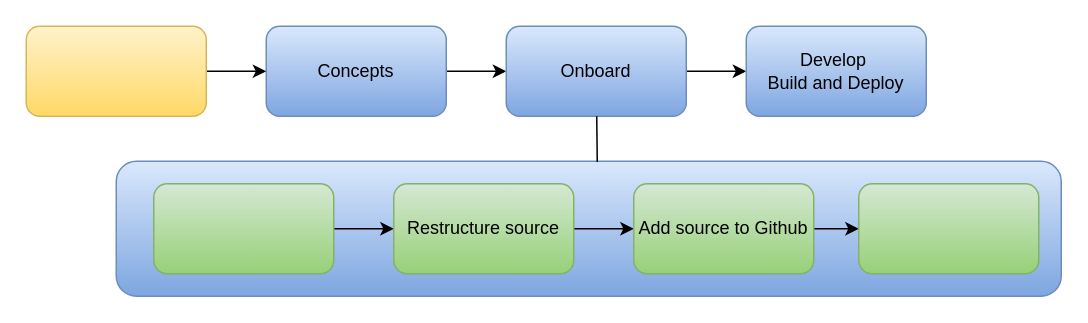
The diagram is 1088 pixels wide and 323 high, and some of its shapes have lost their labels. The shapes that lost their labels are listed below. From the top down, each one's centre as x and y in pixels, then its label:
At [115,70]: "Pre-requisites".
At [243,228]: "Extract Source".
At [948,228]: "Configure pipeline to source".
